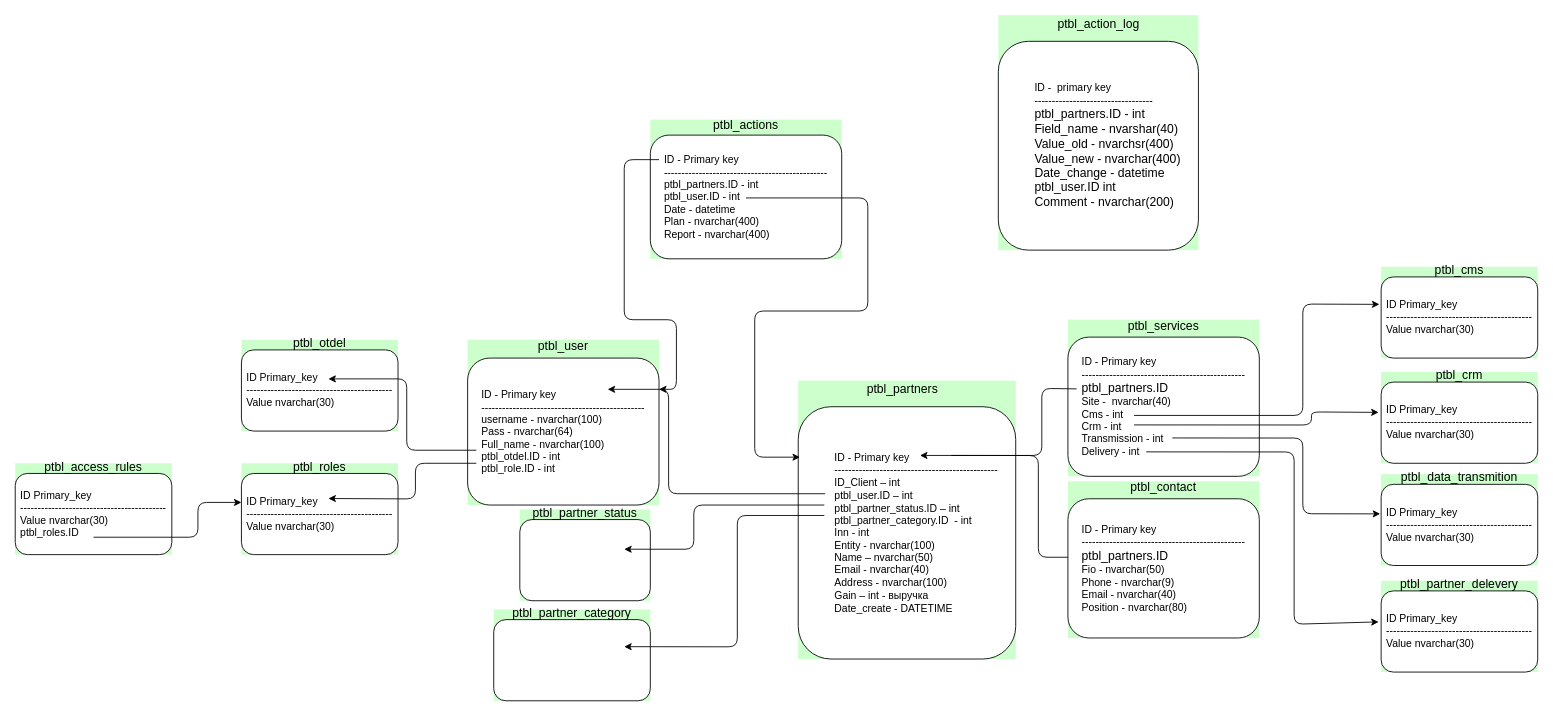
Image size: 1553x716. Some labels were removed from this diagram. The box of each missing label's shape, as (x1, y1, x2, y2) in pixels:
ID Primary_key ------------------------------------ Value nvarchar(50): (519, 519, 650, 601)
ID Primary_key ------------------------------------------ Value nvarchar(50): (493, 619, 650, 701)
